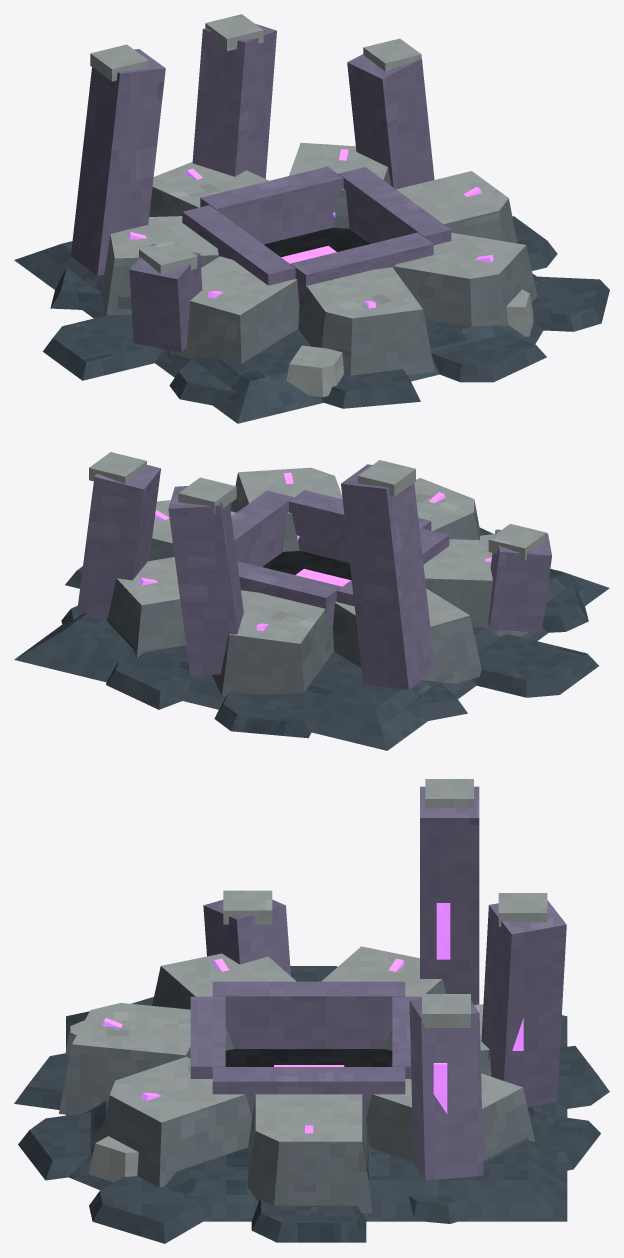
Rendered from mana_devourer_lair_v1.glb.
The picture shows the model from 3 angles, top to bottom: view 1: azimuth 30°, elevation 25°; view 2: azimuth 150°, elevation 25°; view 3: azimuth 270°, elevation 25°; orthographic projection. The views are drawn at different scales.
Parts seen in each view (by area): view 1: Model; view 2: Model; view 3: Model.
Part boxes in pixels (left/top/right/bottom): Model: left=14, top=14, right=609, bottom=423; Model: left=14, top=452, right=609, bottom=750; Model: left=14, top=779, right=609, bottom=1243.
Size of the model in its own units: 1.39 by 0.6221 by 1.31.
1 material, 1 textured.
